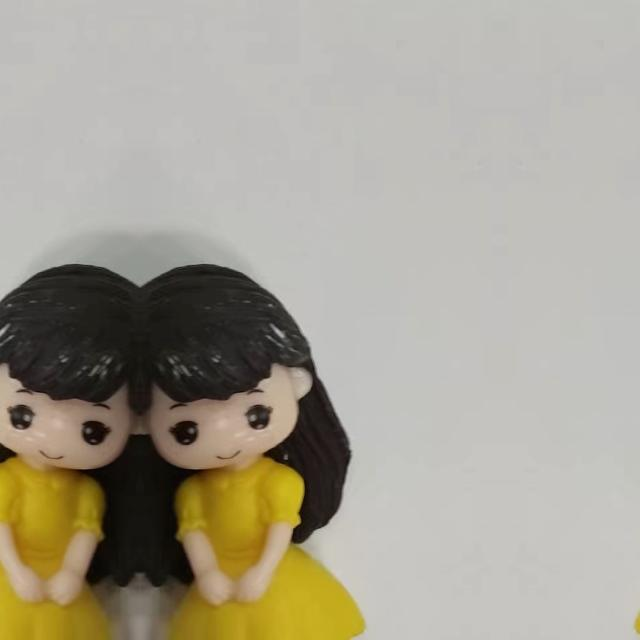woman dress: (167, 436, 396, 640), (0, 436, 113, 639), (604, 436, 640, 639)
woman head: (142, 257, 348, 517), (0, 257, 138, 517)
